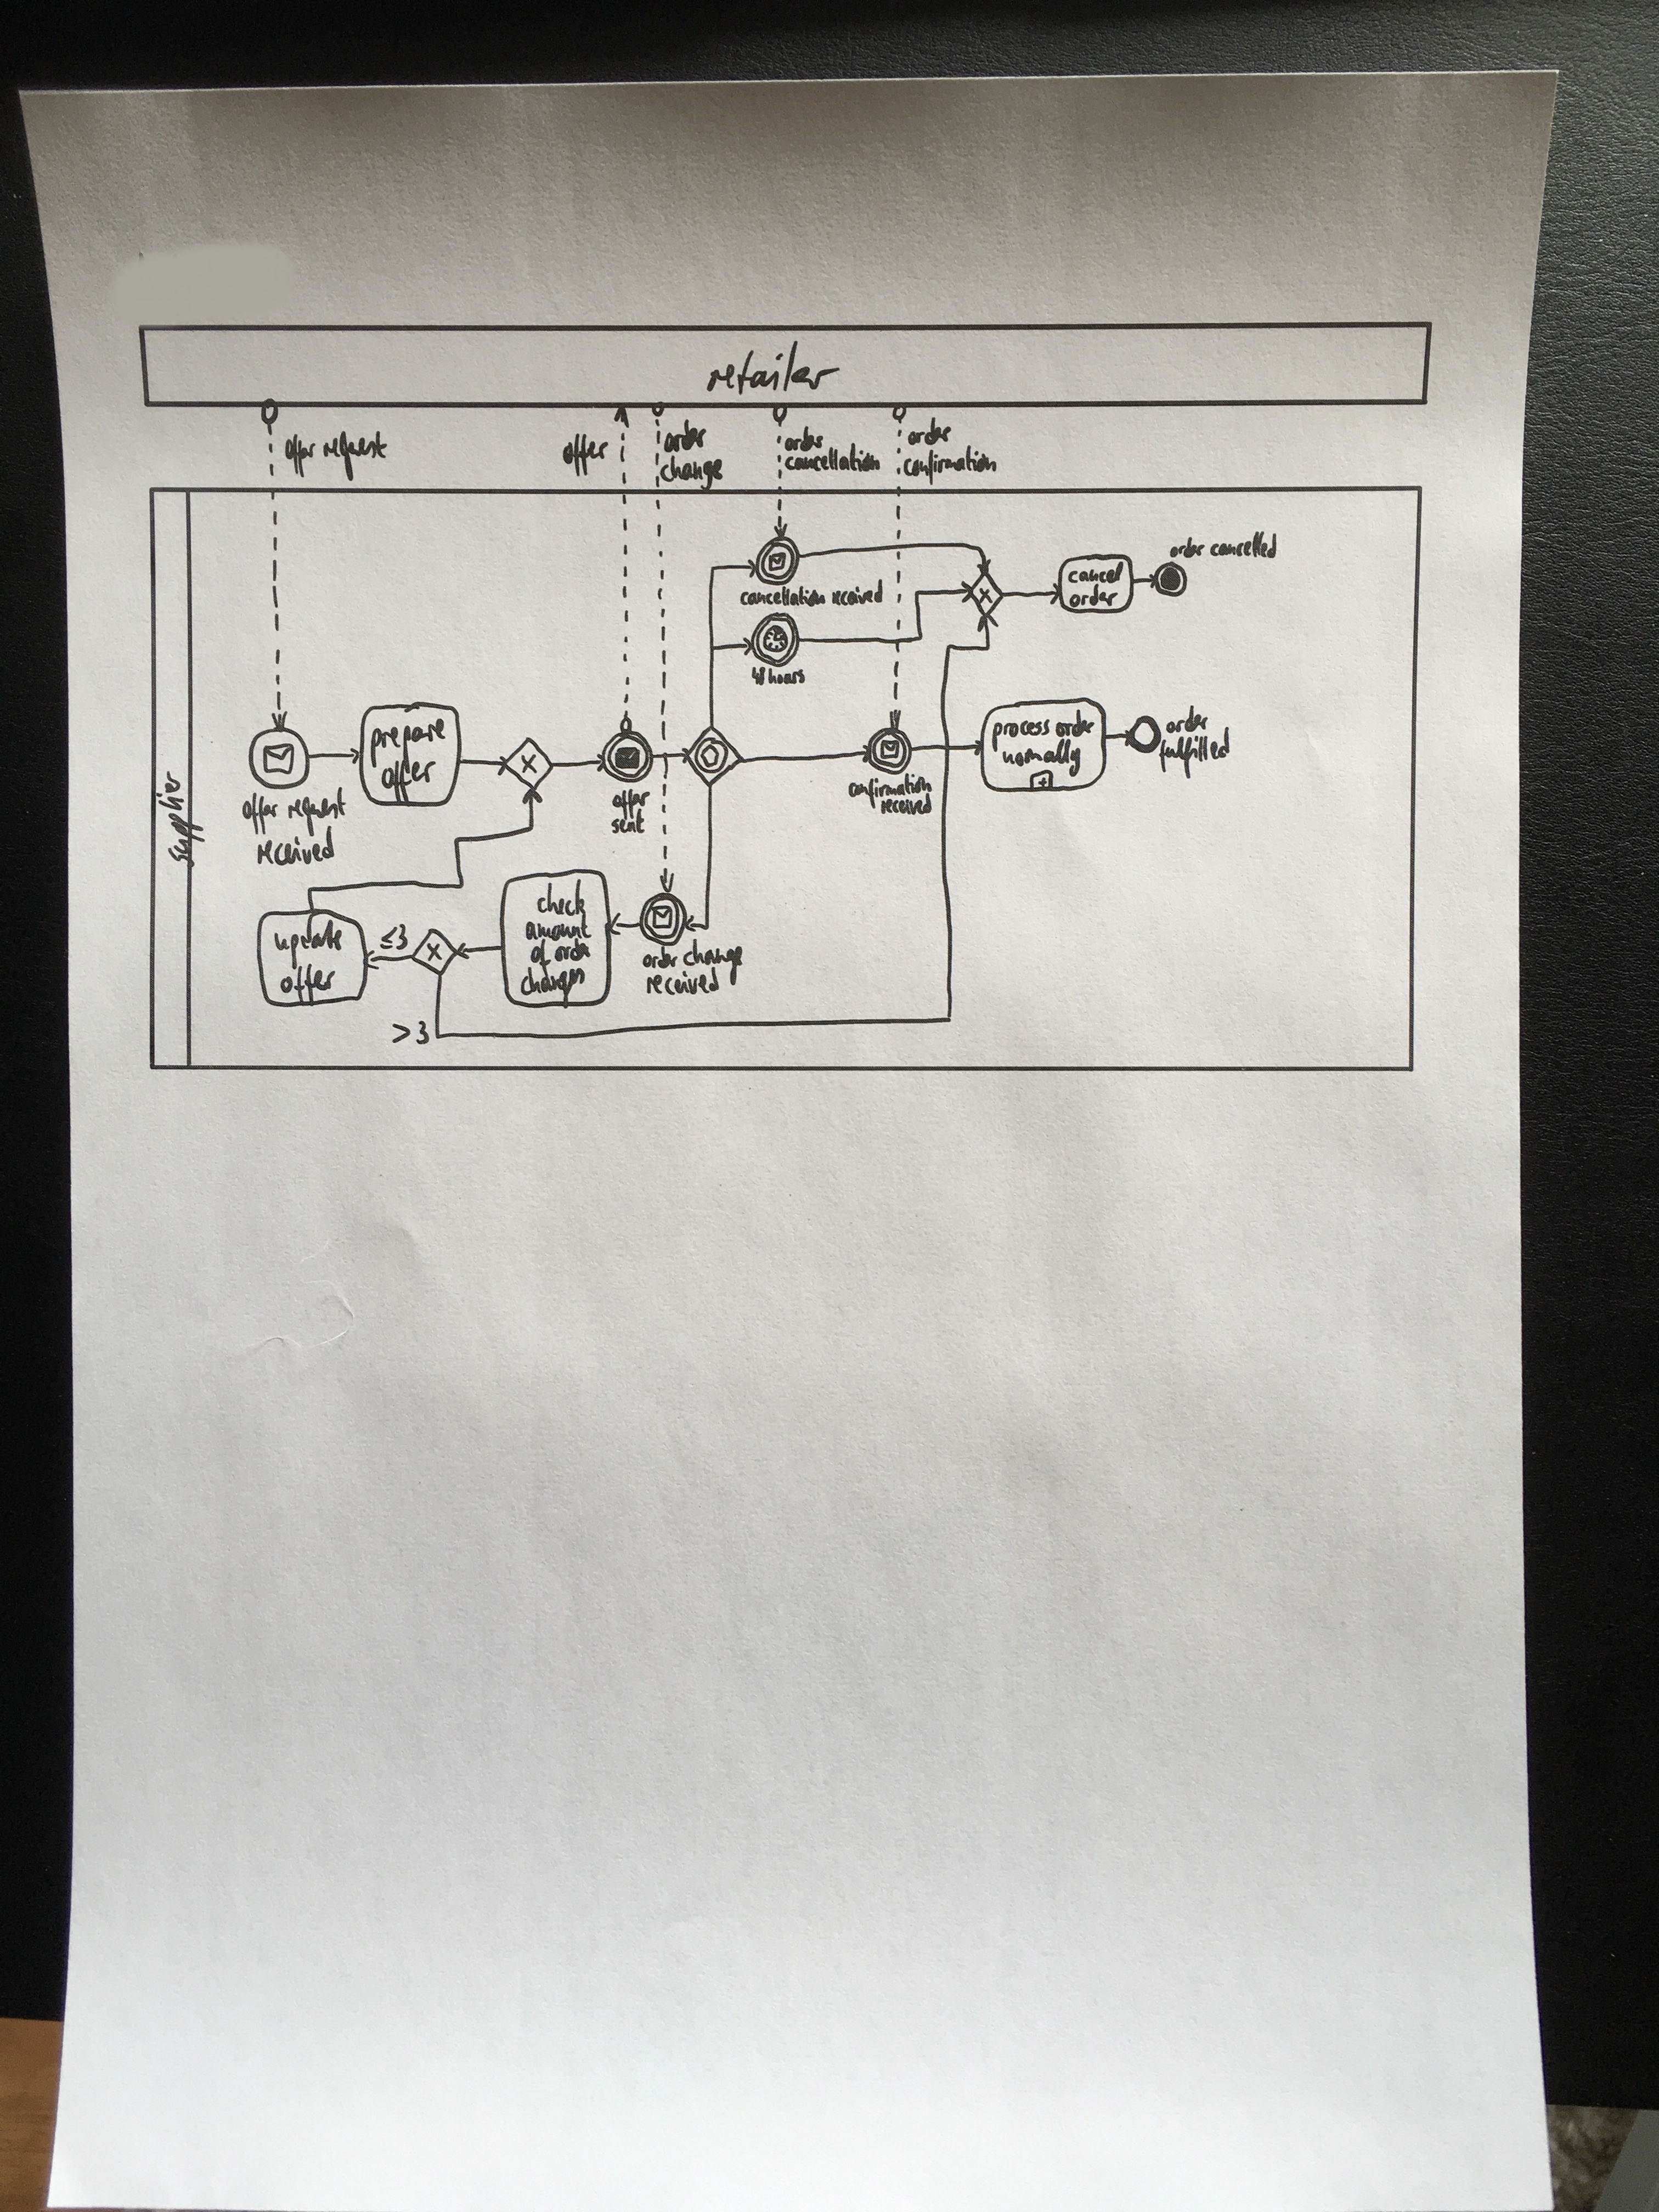48hours: (749, 664, 805, 690)
<=3: (383, 918, 406, 948)
>3: (387, 1014, 429, 1047)
Supplier: (155, 772, 202, 866)
amount: (525, 918, 598, 942)
cancel: (1065, 563, 1129, 585)
cancellation: (784, 449, 890, 479), (737, 585, 821, 610)
cancelled: (1206, 531, 1281, 564)
change: (655, 453, 725, 484), (678, 942, 746, 974)
changes: (516, 967, 589, 998)
check: (533, 892, 579, 918)
confirmation: (897, 448, 999, 481), (843, 772, 932, 799)
fulfilled: (1157, 732, 1237, 759)
normally: (1000, 740, 1080, 772)
of: (528, 942, 549, 963)
offer: (371, 752, 441, 798), (556, 432, 605, 479), (281, 434, 319, 475), (281, 968, 333, 996), (240, 794, 270, 833), (606, 787, 650, 808)
order: (903, 418, 957, 448), (779, 421, 830, 453), (636, 944, 676, 975), (1166, 533, 1206, 563), (1068, 587, 1121, 610), (664, 421, 706, 449), (1049, 712, 1094, 737), (551, 939, 591, 963), (1168, 712, 1209, 732)
prepare: (368, 716, 448, 754)
process: (995, 716, 1051, 735)
received: (645, 965, 728, 998), (254, 836, 335, 869), (824, 583, 889, 610), (882, 796, 931, 817)
request: (274, 787, 352, 831), (322, 428, 387, 458)
retailer: (706, 341, 838, 399)
sent: (606, 812, 650, 840)
update: (274, 928, 352, 956)
